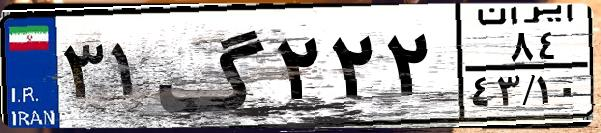0: (560, 70, 590, 125)
1: (110, 28, 156, 98), (535, 70, 560, 125)
2: (270, 28, 330, 110), (385, 28, 445, 110), (330, 28, 385, 110)
3: (57, 26, 110, 100), (495, 70, 520, 125)
4: (537, 27, 568, 80), (470, 70, 495, 125)
8: (508, 27, 537, 80)
گ: (156, 12, 270, 120)
